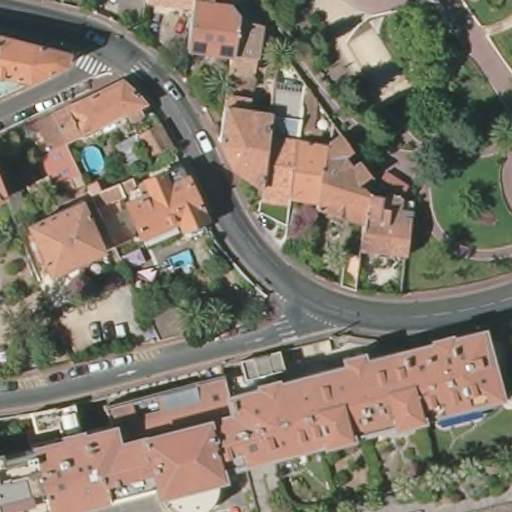pool: (163, 246, 200, 277), (80, 144, 109, 175)
